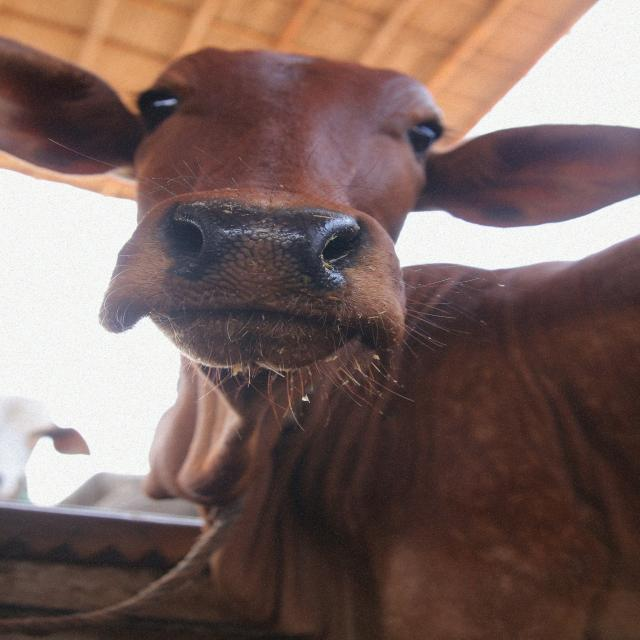muzzles: (153, 195, 382, 334)
